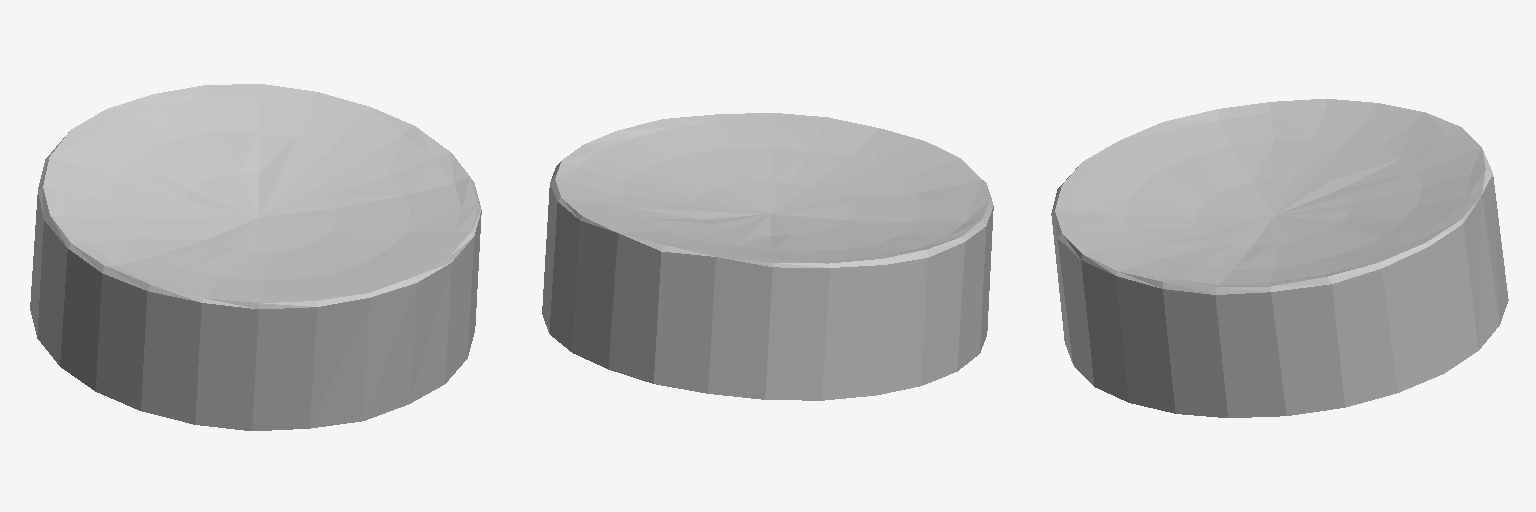
File: sys_button0.obj
3 renders of one model, left to right at view 1: azimuth 30°, elevation 25°; view 2: azimuth 150°, elevation 25°; view 3: azimuth 270°, elevation 25°, orthographic.
Size of the model in its own units: 0.01 by 0.0043 by 0.0103.